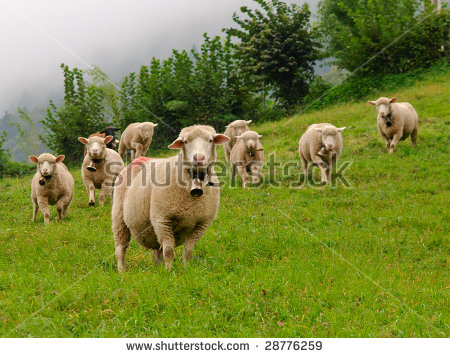sheep: (117, 125, 222, 277), (73, 135, 131, 205), (296, 121, 349, 193), (372, 98, 431, 162), (33, 152, 71, 213), (235, 130, 272, 192), (120, 123, 157, 160), (222, 115, 249, 159)
